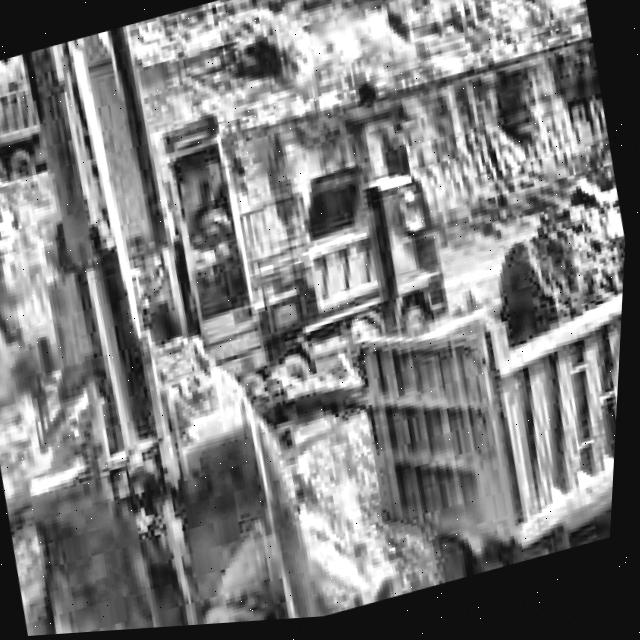dump_truck: (320, 156, 632, 606), (270, 148, 458, 357), (0, 64, 49, 188)
excavator: (0, 0, 410, 640)
